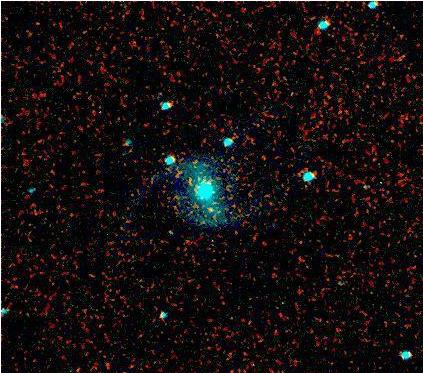star: (195, 194, 225, 224)
